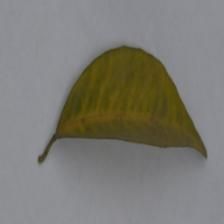greening: (56, 51, 190, 148)
